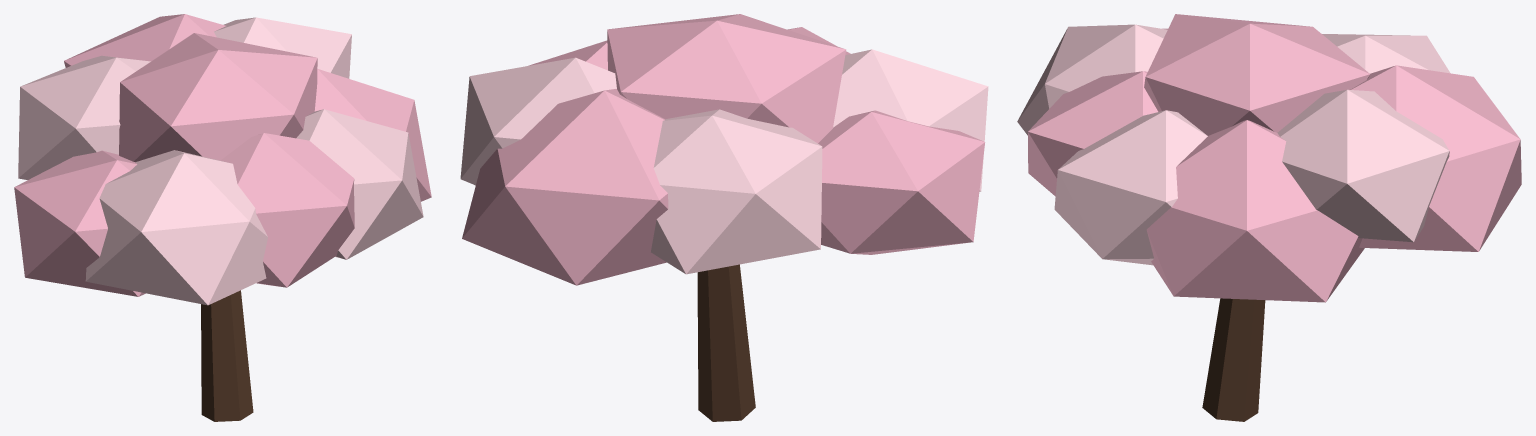
File: Sakura1.fbx
The picture shows the model from 3 angles, left to right: view 1: azimuth 30°, elevation 25°; view 2: azimuth 150°, elevation 25°; view 3: azimuth 270°, elevation 25°; orthographic projection. The views are drawn at different scales.
Visible parts, largest first — view 1: Sakura1_Roof_sakura, Sakura1_Roof_sakura_lt, Sakura1_bark; view 2: Sakura1_Roof_sakura, Sakura1_Roof_sakura_lt, Sakura1_bark; view 3: Sakura1_Roof_sakura, Sakura1_Roof_sakura_lt, Sakura1_bark.
Part boxes in pixels (bbox=[...]): Sakura1_Roof_sakura: bbox=[14, 14, 431, 296]; Sakura1_Roof_sakura_lt: bbox=[18, 17, 423, 305]; Sakura1_bark: bbox=[201, 290, 253, 421]; Sakura1_Roof_sakura: bbox=[462, 14, 985, 285]; Sakura1_Roof_sakura_lt: bbox=[460, 49, 988, 274]; Sakura1_bark: bbox=[697, 264, 755, 421]; Sakura1_Roof_sakura: bbox=[1028, 14, 1521, 302]; Sakura1_Roof_sakura_lt: bbox=[1017, 24, 1450, 265]; Sakura1_bark: bbox=[1202, 298, 1265, 421].
Bounding box in the file's own units: 14.49 × 12.23 × 14.36.
